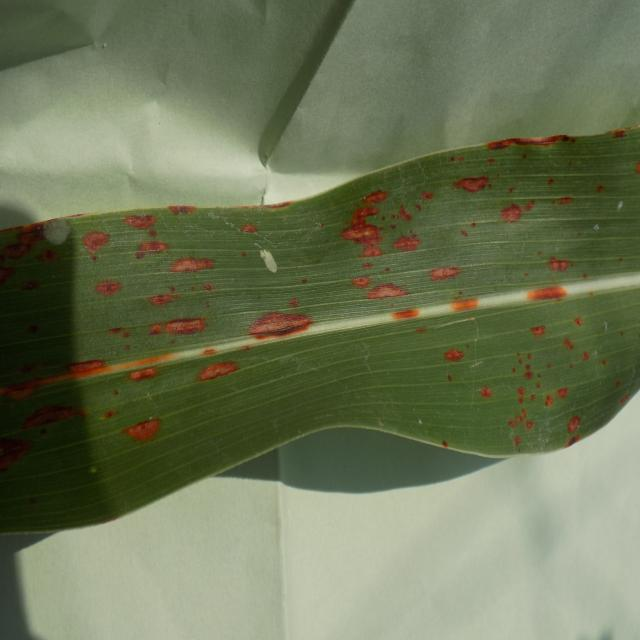millet_rust: (1, 126, 640, 532)
